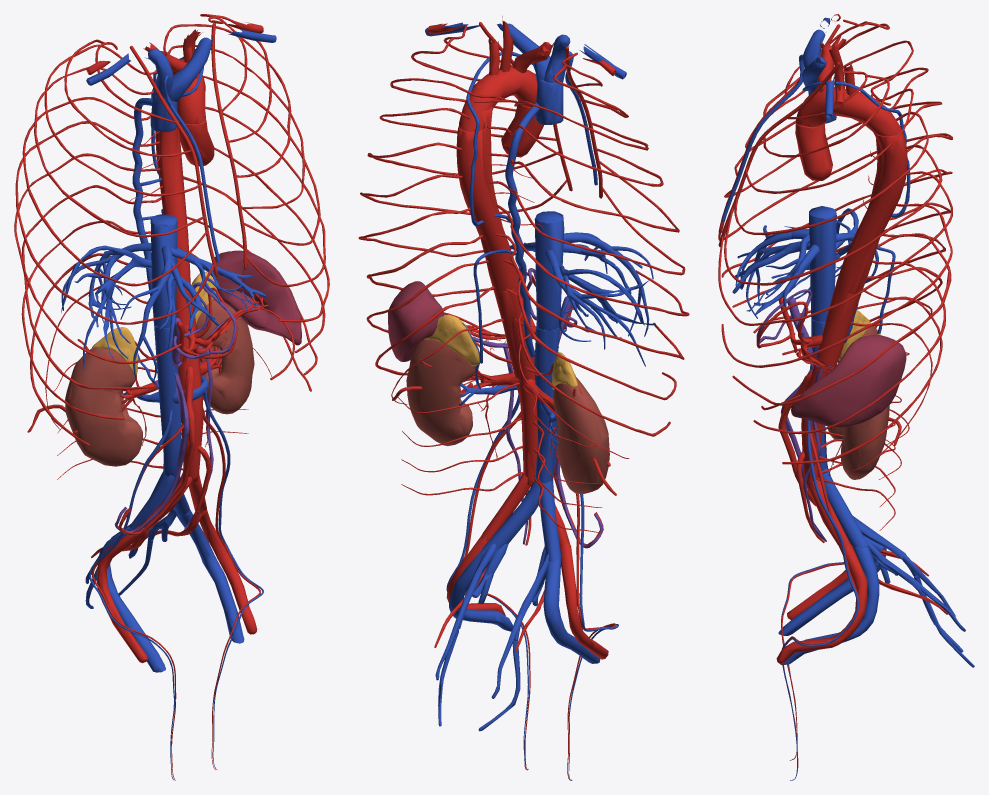
The model's file is gefrumpf.glb.
The picture shows the model from 3 angles, left to right: view 1: azimuth 30°, elevation 25°; view 2: azimuth 150°, elevation 25°; view 3: azimuth 270°, elevation 25°; orthographic projection. The views are drawn at different scales.
Visible parts, largest first — view 1: Posterior intercostal arteries (×2), Right kidney, Spleen, Inferior vena cava (×2), Left kidney, Descending aorta, Right hepatic vein, Left external iliac vein, Left external iliac artery, Right external iliac artery, Right external iliac vein, Azygos vein (+25 smaller); view 2: Posterior intercostal arteries (×2), Left kidney, Inferior vena cava (×2), Descending aorta, Right kidney, Spleen, Arch of aorta, Lumbar artery (×2), Descending thoracic aorta, Azygos vein, Right external iliac vein, Right hepatic vein (+25 smaller); view 3: Posterior intercostal arteries (×2), Spleen, Descending aorta, Inferior vena cava (×2), Arch of aorta, Left kidney, Abdominal aorta, Left external iliac artery, Ascending aorta, Left external iliac vein, Left testicular vein, Right external iliac vein (+19 smaller).
Boxes of the visible parts, x1,y1,x2,y2 form: Posterior intercostal arteries (×2): [14, 24, 329, 445]; Right kidney: [65, 348, 142, 466]; Spleen: [213, 250, 301, 345]; Inferior vena cava (×2): [150, 214, 181, 476]; Left kidney: [196, 300, 254, 414]; Descending aorta: [155, 128, 199, 484]; Right hepatic vein: [61, 245, 152, 359]; Left external iliac vein: [177, 509, 244, 643]; Left external iliac artery: [197, 509, 257, 634]; Right external iliac artery: [96, 526, 148, 663]; Right external iliac vein: [98, 526, 165, 672]; Azygos vein: [132, 98, 152, 296]; Posterior intercostal arteries (×2): [358, 78, 689, 458]; Left kidney: [406, 339, 475, 446]; Inferior vena cava (×2): [534, 211, 564, 483]; Descending aorta: [456, 126, 537, 486]; Right kidney: [553, 377, 609, 494]; Spleen: [388, 281, 444, 361]; Arch of aorta: [459, 66, 537, 131]; Lumbar artery (×2): [398, 382, 602, 532]; Descending thoracic aorta: [479, 106, 516, 292]; Azygos vein: [505, 102, 539, 357]; Right external iliac vein: [543, 557, 600, 663]; Right hepatic vein: [558, 264, 655, 337]; Posterior intercostal arteries (×2): [718, 40, 952, 471]; Spleen: [791, 334, 906, 427]; Descending aorta: [804, 132, 907, 484]; Inferior vena cava (×2): [809, 206, 836, 470]; Arch of aorta: [796, 87, 901, 136]; Left kidney: [841, 405, 889, 479]; Abdominal aorta: [801, 293, 861, 489]; Left external iliac artery: [776, 544, 867, 664]; Ascending aorta: [795, 122, 832, 180]; Left external iliac vein: [781, 546, 879, 665]; Left testicular vein: [782, 419, 859, 780]; Right external iliac vein: [778, 547, 886, 635].
Bounding box in the file's own units: 0.2645 × 0.6721 × 0.2112.
